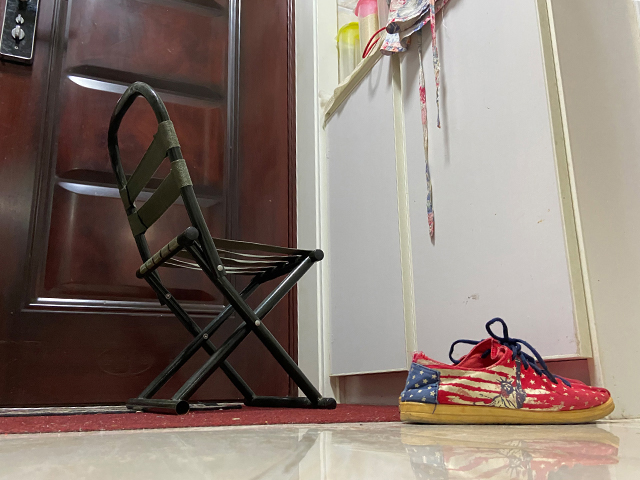cabinet: (294, 1, 640, 421)
carpet: (1, 403, 403, 434)
stool: (106, 80, 338, 416)
